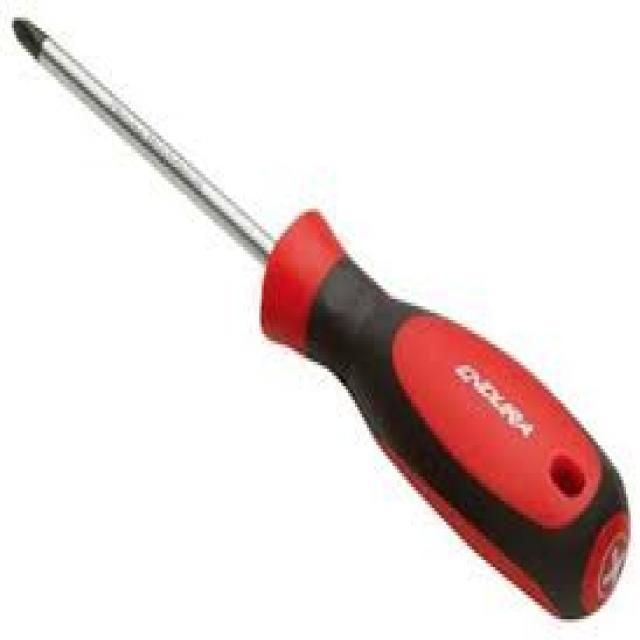screwdriver: (9, 16, 633, 621)
